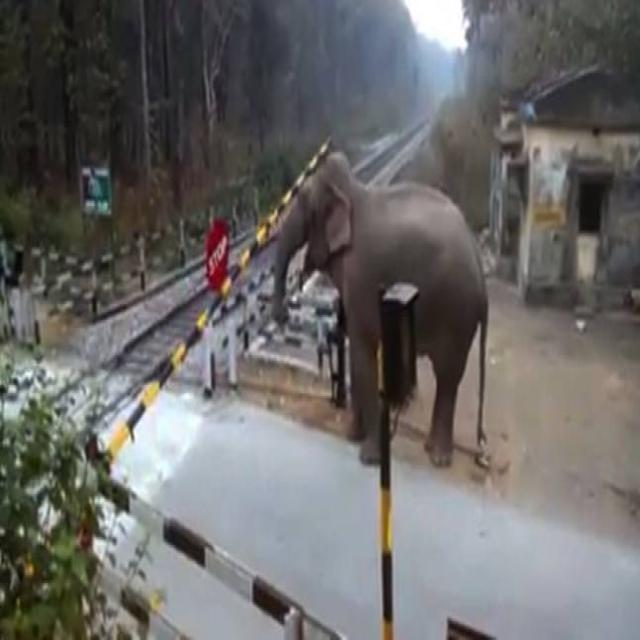Elephant: (270, 145, 507, 470)
